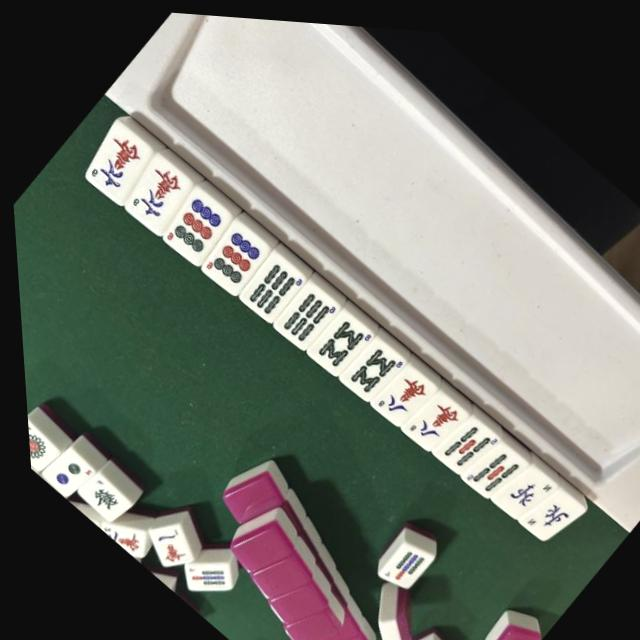hwn: (515, 481, 570, 538), (494, 458, 547, 513)
sb5: (432, 406, 495, 472), (456, 431, 518, 495)
sb6: (270, 278, 337, 348), (238, 251, 304, 320)
sb8: (305, 306, 369, 374), (337, 333, 401, 400)
sc6: (80, 125, 154, 202), (121, 155, 191, 228)
sc8: (366, 357, 429, 423), (399, 384, 462, 449)
sd9: (157, 187, 230, 262), (195, 220, 267, 294)
